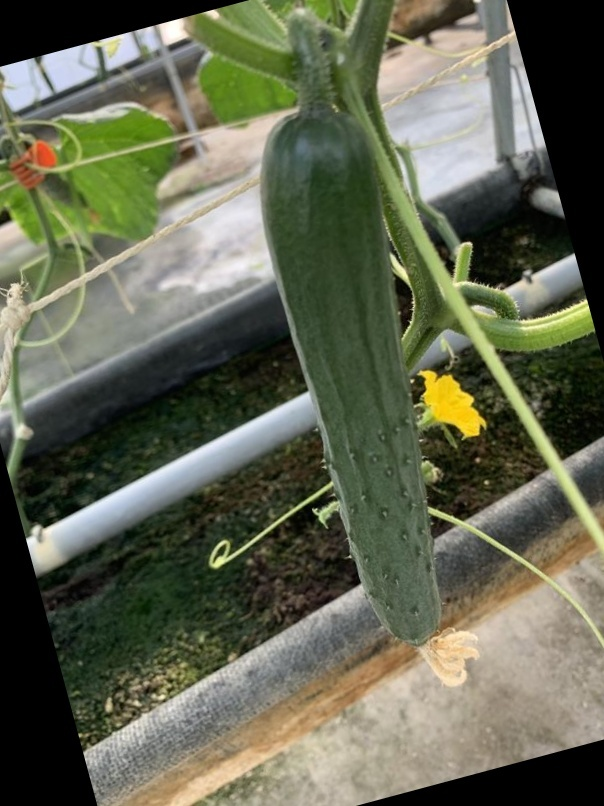mature: (243, 110, 480, 649)
